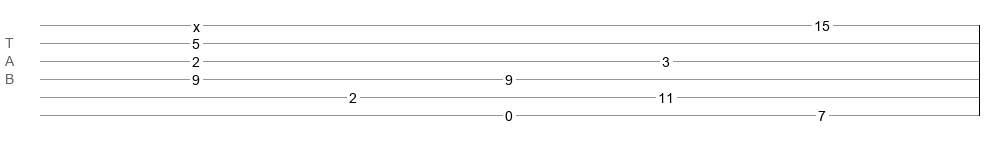0: (505, 108, 513, 118)
11: (658, 90, 674, 100)
15: (814, 18, 830, 28)
2: (192, 54, 200, 64), (349, 90, 357, 100)
3: (662, 54, 670, 64)
5: (192, 36, 200, 46)
7: (818, 108, 826, 118)
9: (192, 72, 200, 82), (505, 72, 513, 82)
x: (193, 19, 200, 27)
